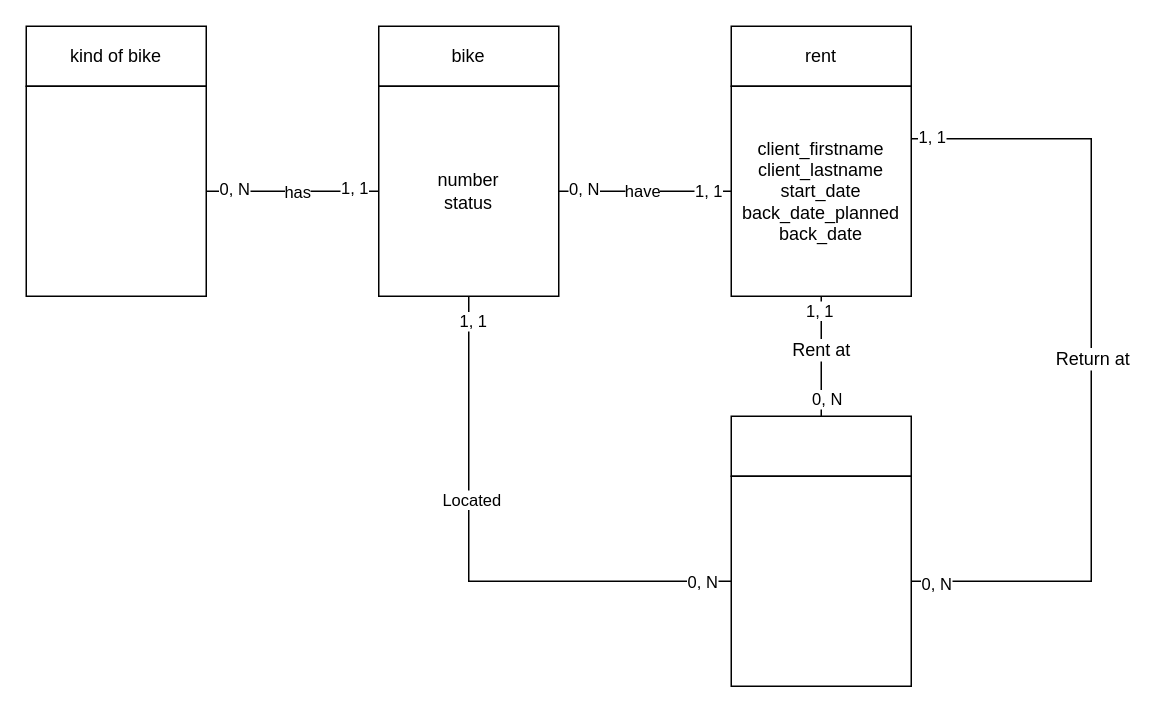
The diagram is 1155 pixels wide and 713 high, and some of its shapes have lost their labels. The shapes that lost their labels are listed below. From the top down, each one's box as (x1, y1, x2, y2) in pixels, then its label:
(25, 85, 206, 296): label price
(730, 415, 911, 476): point of sale
(730, 475, 911, 686): label
